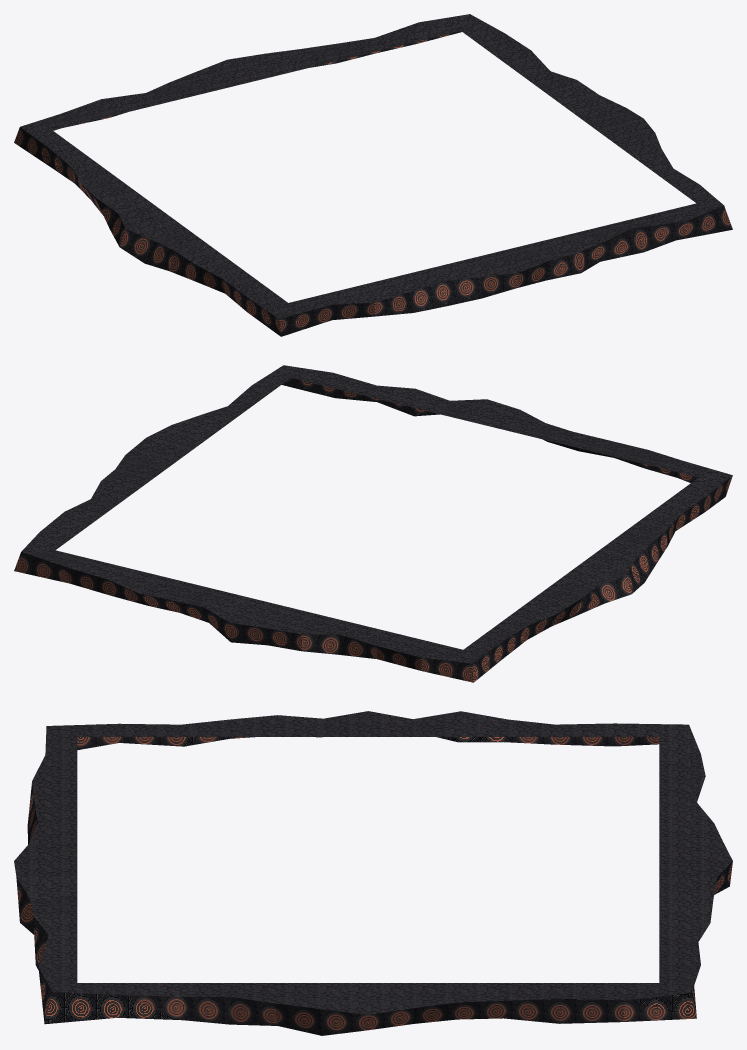
Rendered from entorno_18.glb.
3 views of the same model, one above another, from view 1: azimuth 30°, elevation 25°; view 2: azimuth 150°, elevation 25°; view 3: azimuth 270°, elevation 25° (orthographic). The views are drawn at different scales.
Parts seen in each view (by area): view 1: vulcao_entorno_18; view 2: vulcao_entorno_18; view 3: vulcao_entorno_18.
Part boxes in pixels (left/top/right/bottom): vulcao_entorno_18: left=14, top=14, right=732, bottom=336; vulcao_entorno_18: left=14, top=365, right=732, bottom=682; vulcao_entorno_18: left=14, top=711, right=732, bottom=1035.
Bounding box in the file's own units: 22.6 × 1.07 × 22.49.
Materials: 2 (2 with a texture image).
